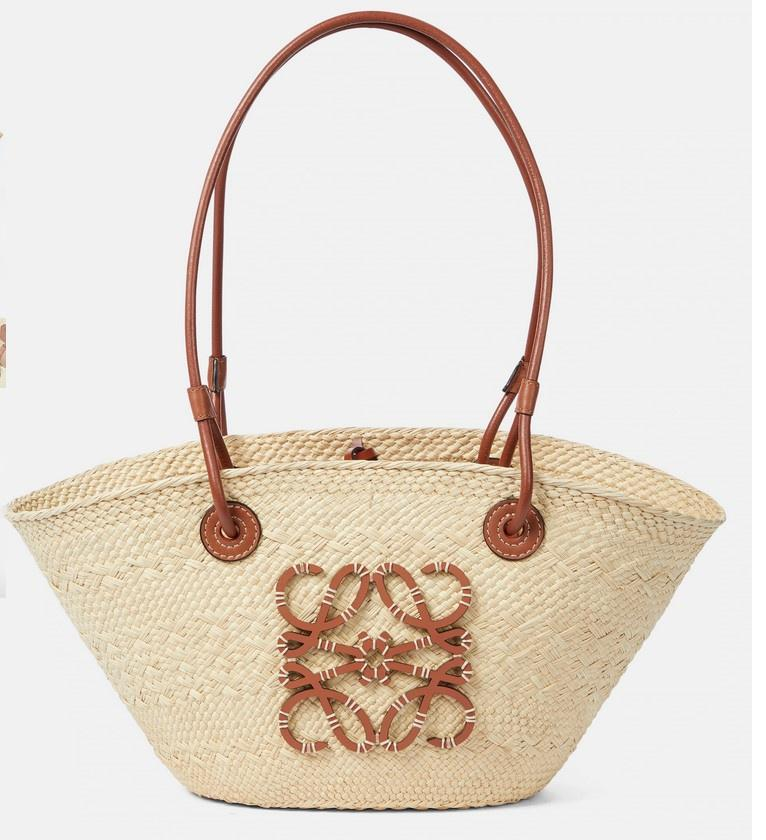LOEWE: (268, 551, 488, 771)
